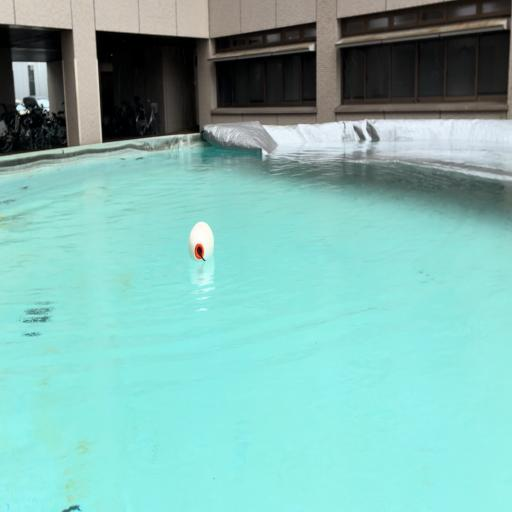white buoy: (189, 222, 214, 261)
